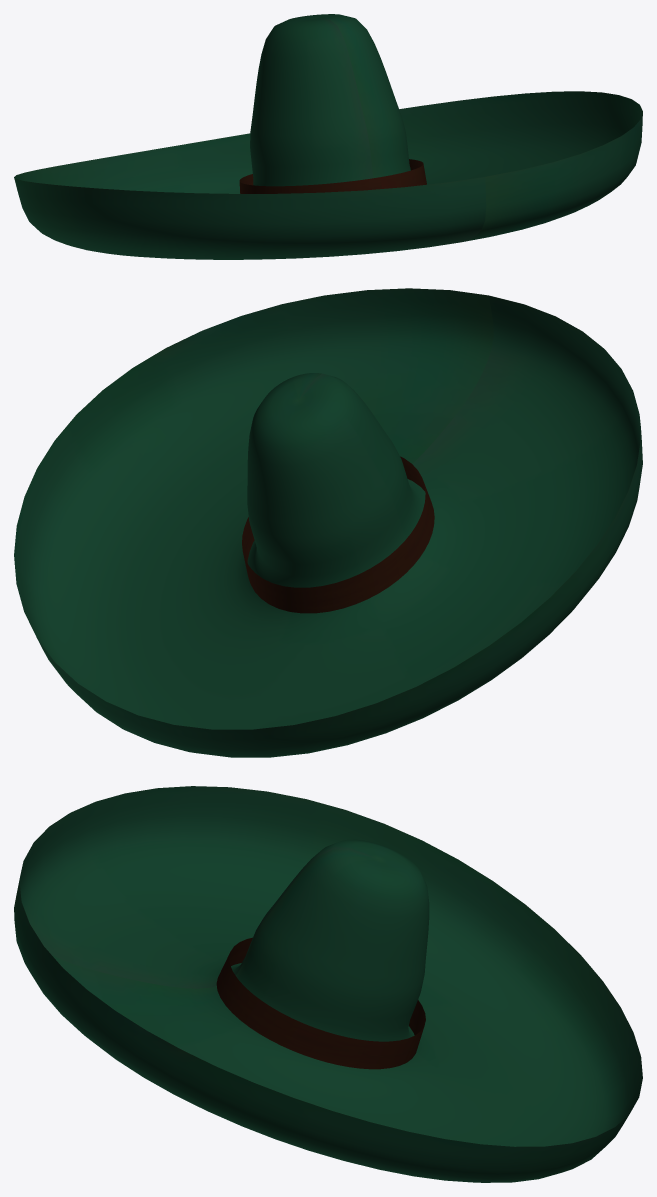
File: hat.sombrero.glb
3 views of the same model, one above another, from view 1: azimuth 30°, elevation 25°; view 2: azimuth 150°, elevation 25°; view 3: azimuth 270°, elevation 25° (orthographic).
Parts seen in each view (by area): view 1: Head; view 2: Head; view 3: Head.
Part boxes in pixels (x1,y1,x2,y2): Head: [14, 14, 642, 259]; Head: [14, 288, 642, 757]; Head: [14, 786, 642, 1182].
Size of the model in its own units: 0.6817 by 0.3307 by 0.6817.
1 material, 1 textured.
